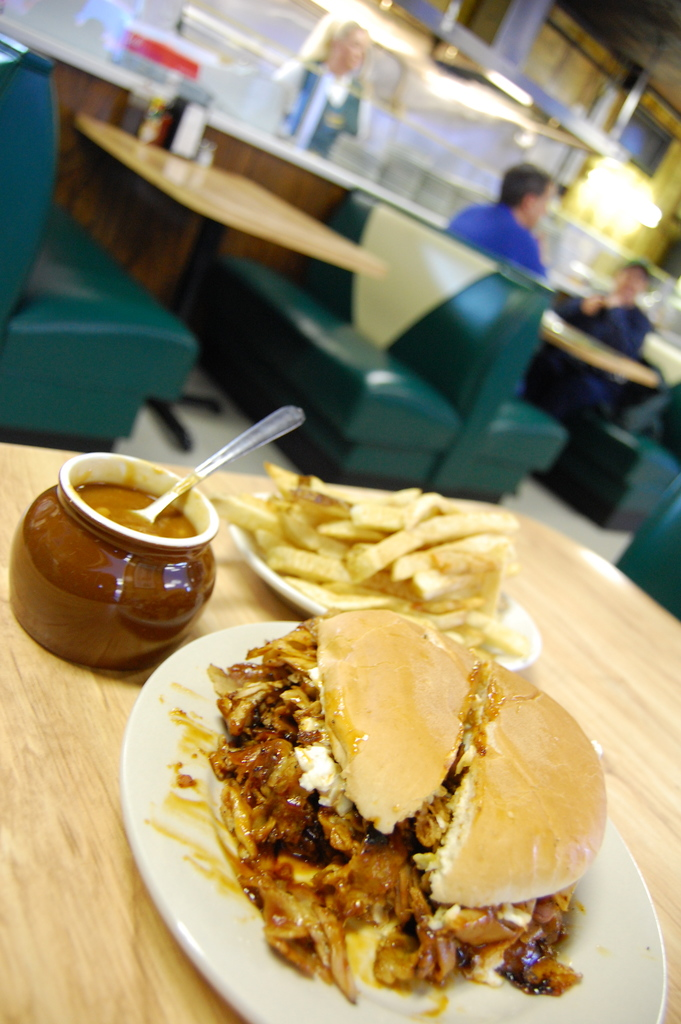French fries: (196, 460, 512, 624)
